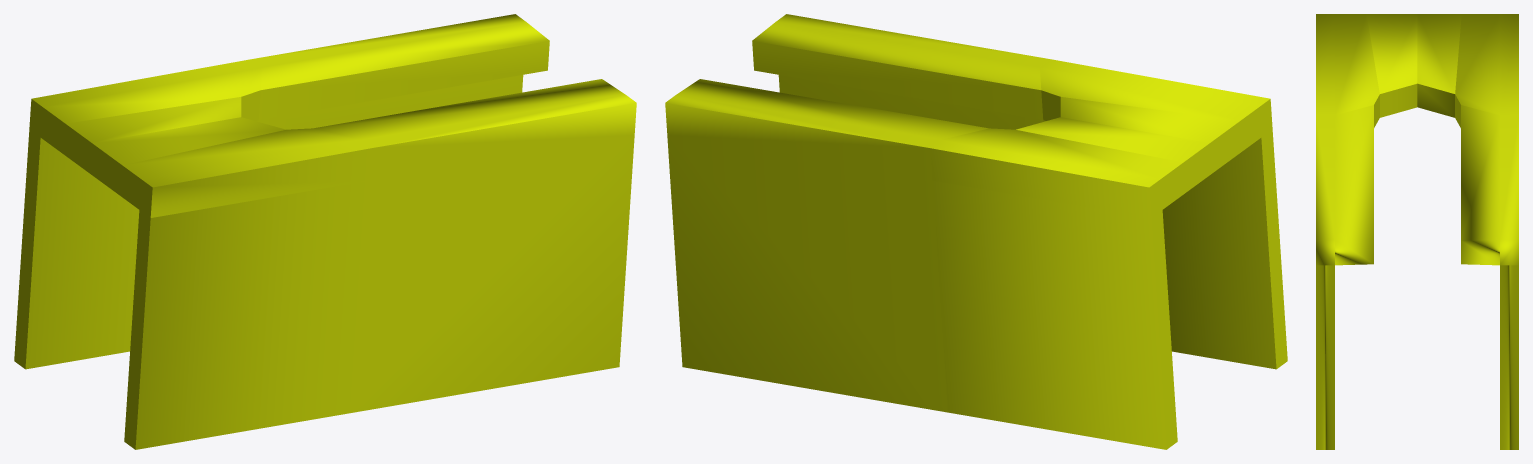
Rendered from Plunger_Cover.fbx.
3 renders of one model, left to right at view 1: azimuth 30°, elevation 25°; view 2: azimuth 150°, elevation 25°; view 3: azimuth 270°, elevation 25°, orthographic. The views are drawn at different scales.
Visible parts, largest first — view 1: Plunger_Cover; view 2: Plunger_Cover; view 3: Plunger_Cover.
Part boxes in pixels (<box>): Plunger_Cover: <box>14,14,636,449</box>; Plunger_Cover: <box>665,14,1287,449</box>; Plunger_Cover: <box>1316,14,1518,449</box>.
Size of the model in its own units: 8.16 by 4.56 by 3.42.
